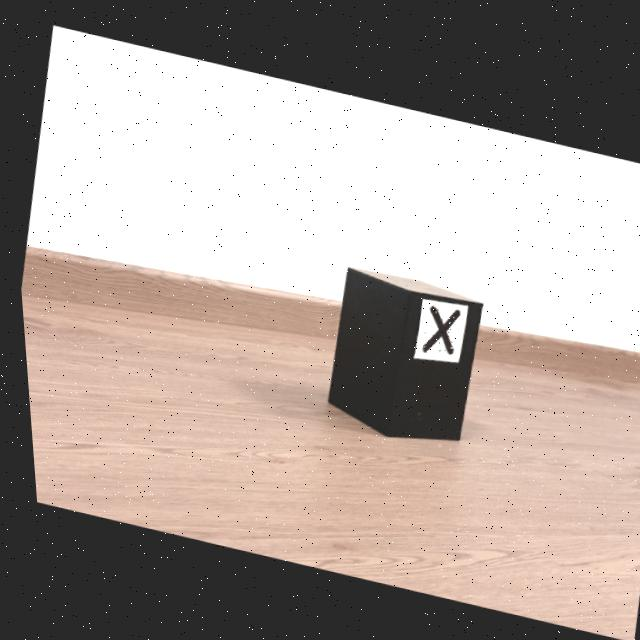X: (417, 303, 455, 351)
